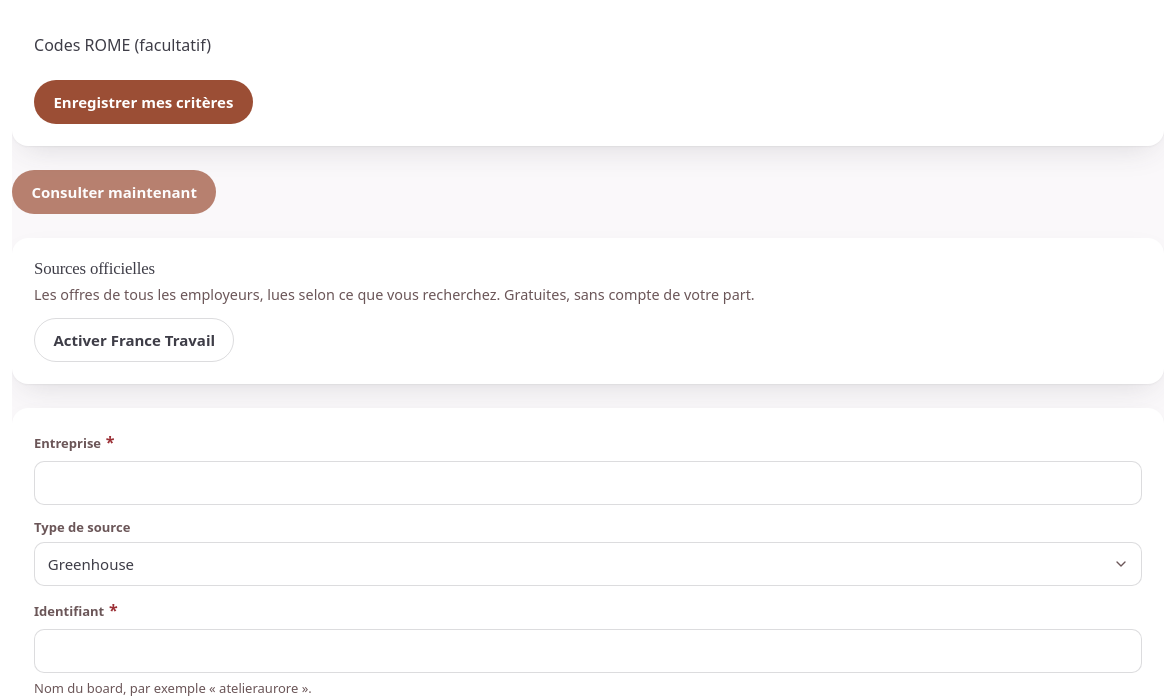
Test: SitesPage › [EF-VEI-32] activates France Travail in one gesture, without company nor identifier
This screenshot has width=1164, height=700.
(page scrolled)
Click the button "Activer France Travail" at (134, 340), box [34,318,234,362]
(page scrolled)
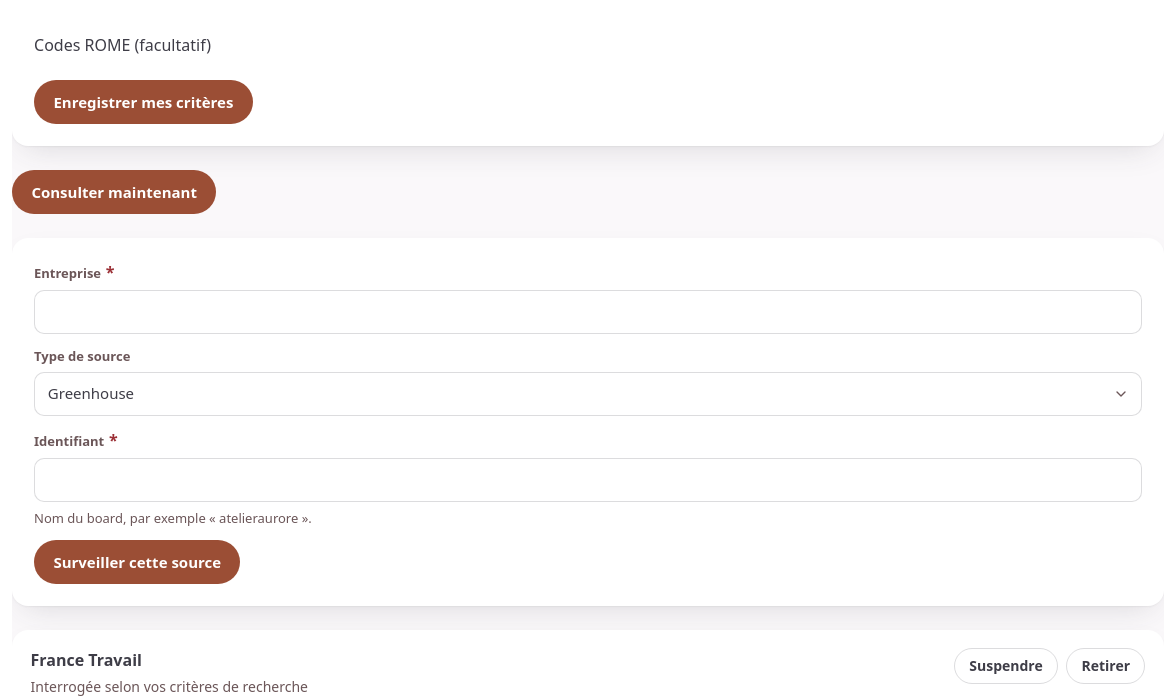
Expected: the text "France Travail" is shown, [30,649,142,671]
Expected: the text "Interrogée selon vos critères de recherche" is shown, [30,677,308,696]
Expected: the button "Activer France Travail" is gone
